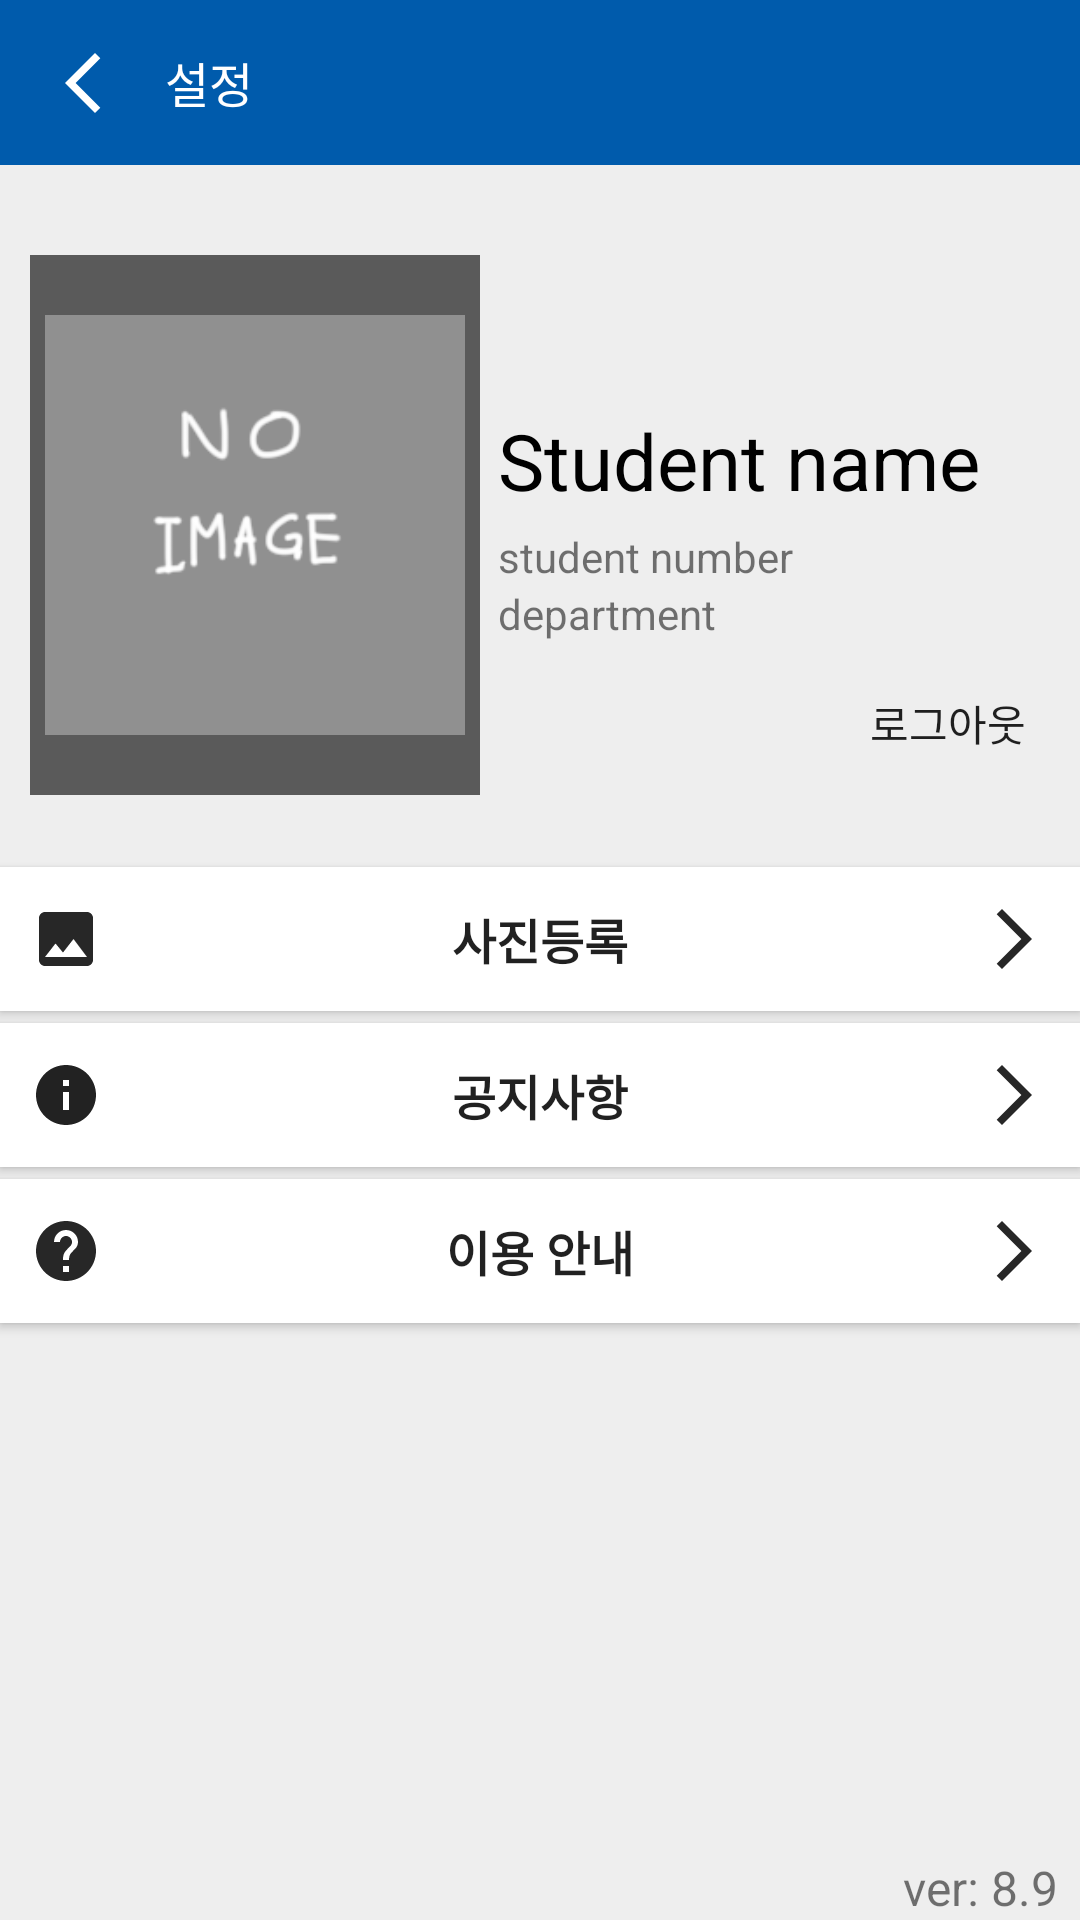

Where icons sit on this 1080 × 1920 app screen, as (x1, y1, x2, y2):
back: (65, 53, 100, 113)
